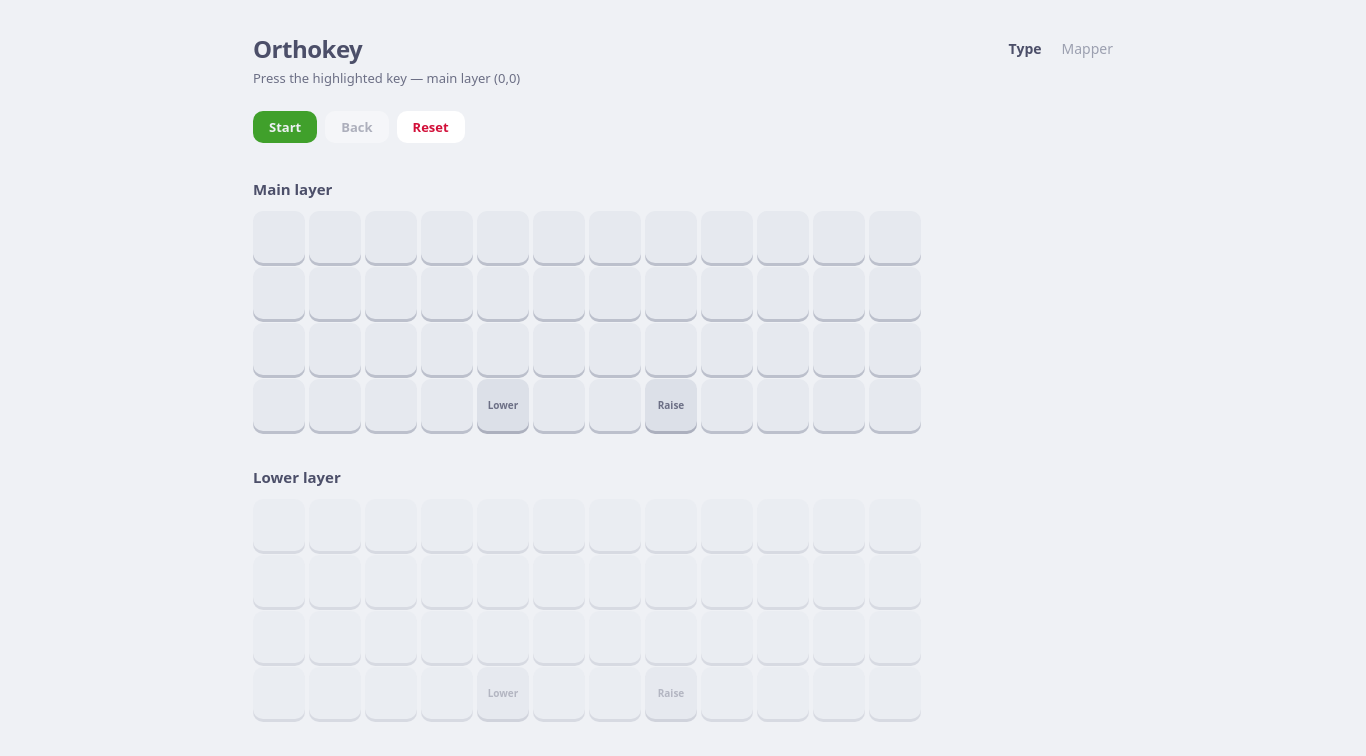
custom label modal › opens modal when shift-clicking a key while active
Click the button "Start" at (285, 127), box [253,111,317,143]
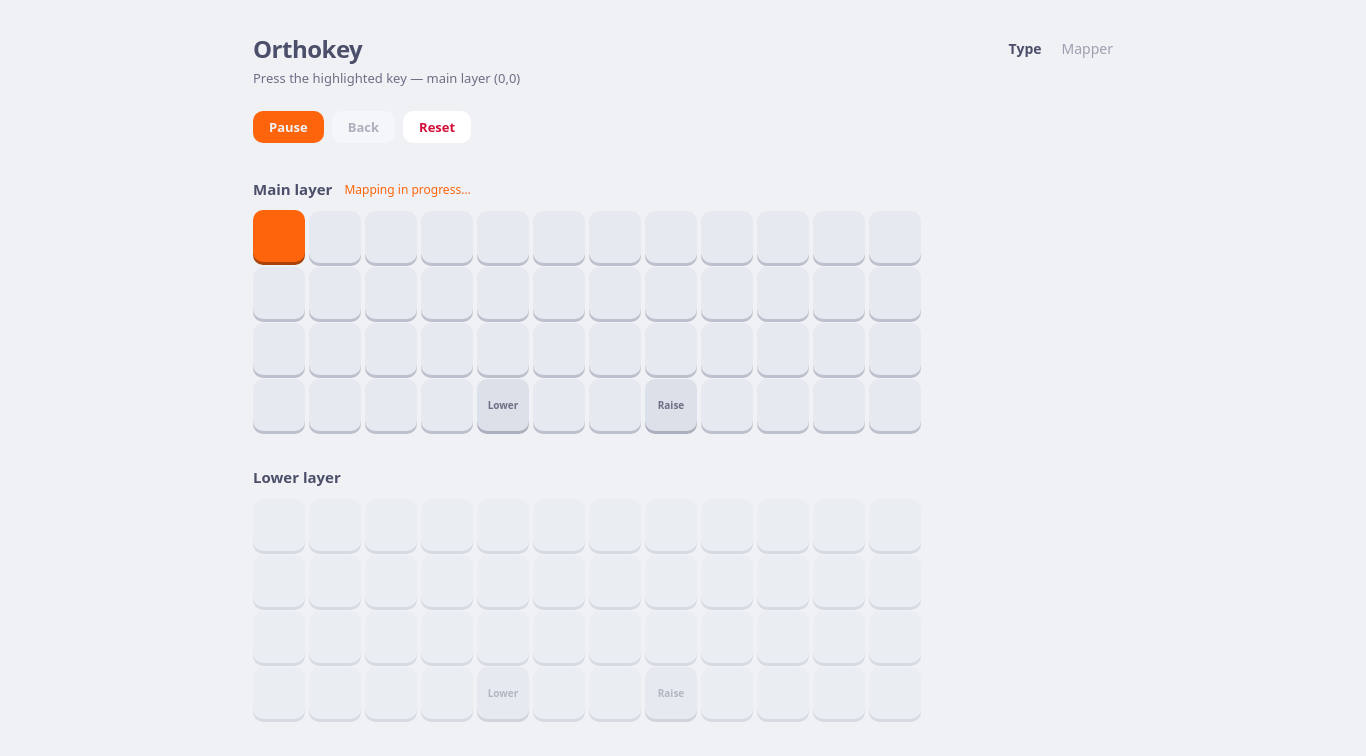
Click the element named "main layer key at 0,0" at (279, 236), box [253,210,305,262]
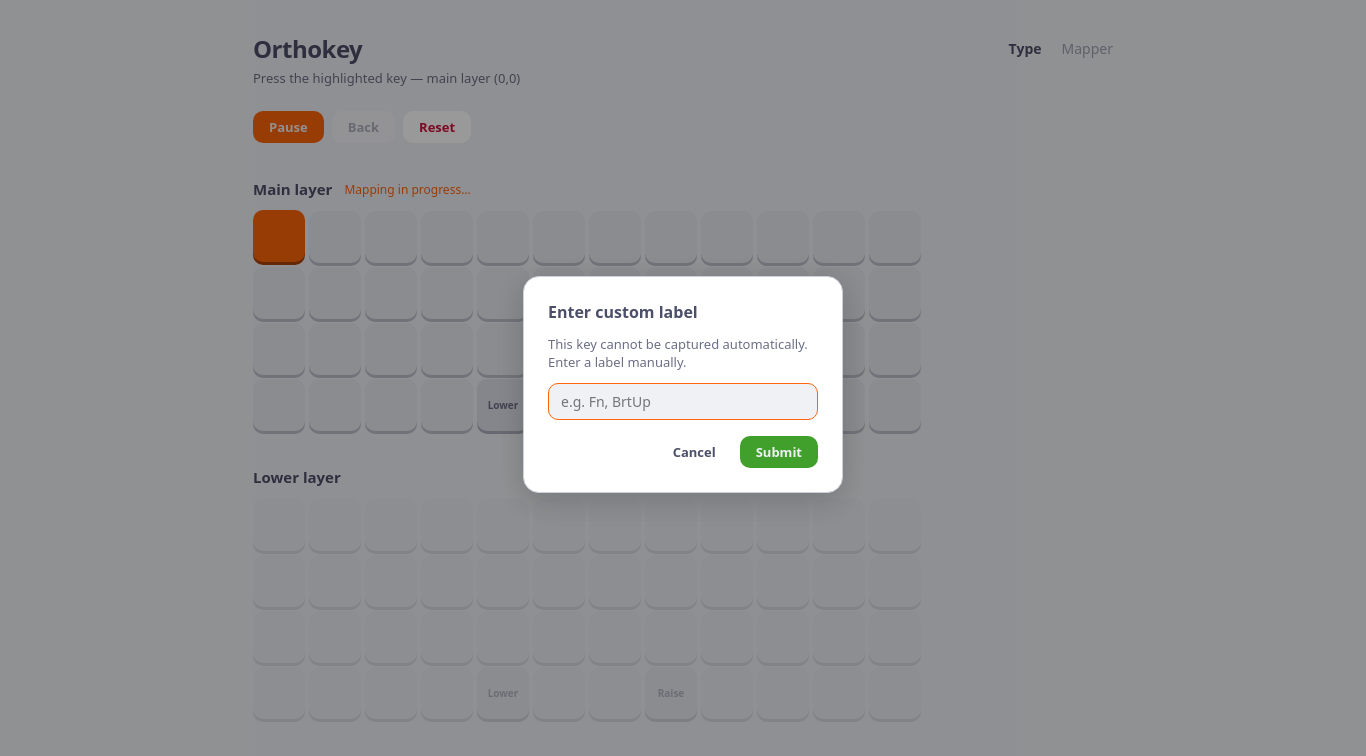
Result: the heading "Enter custom label" is shown at [548,300,698,322]
